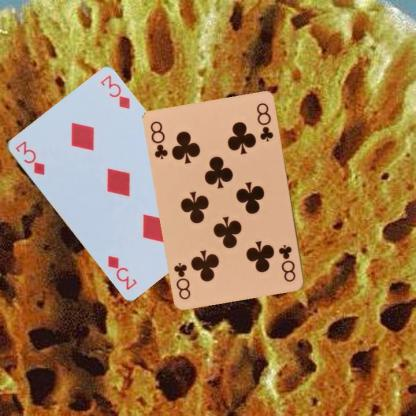3d: (13, 138, 46, 177)
8c: (148, 119, 170, 162), (276, 242, 298, 284)
